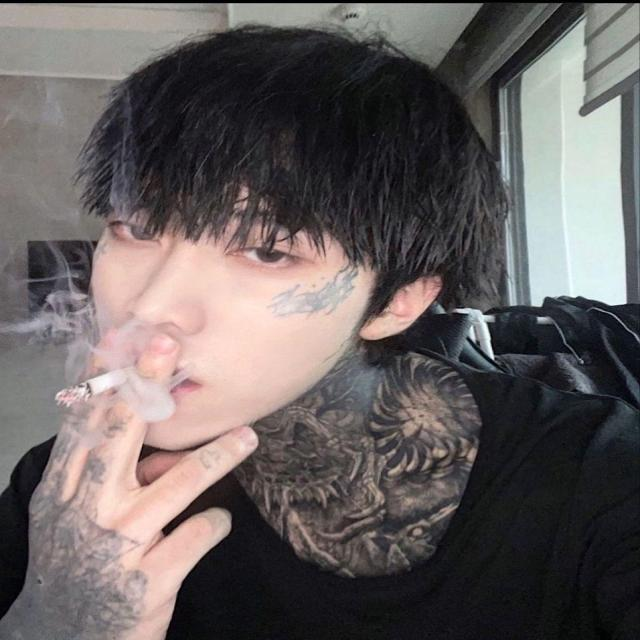cigarette: (31, 347, 185, 422)
